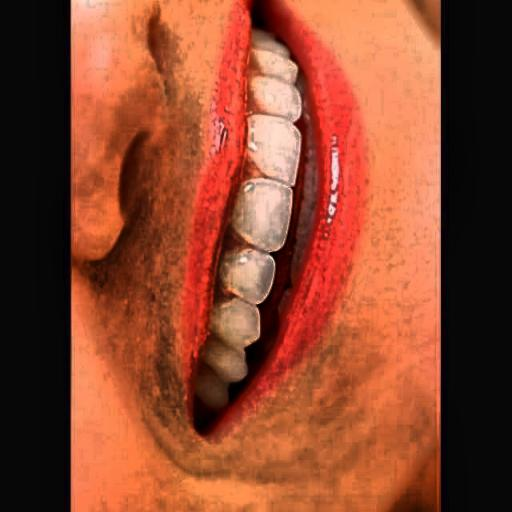Healthy: (196, 30, 321, 409)
